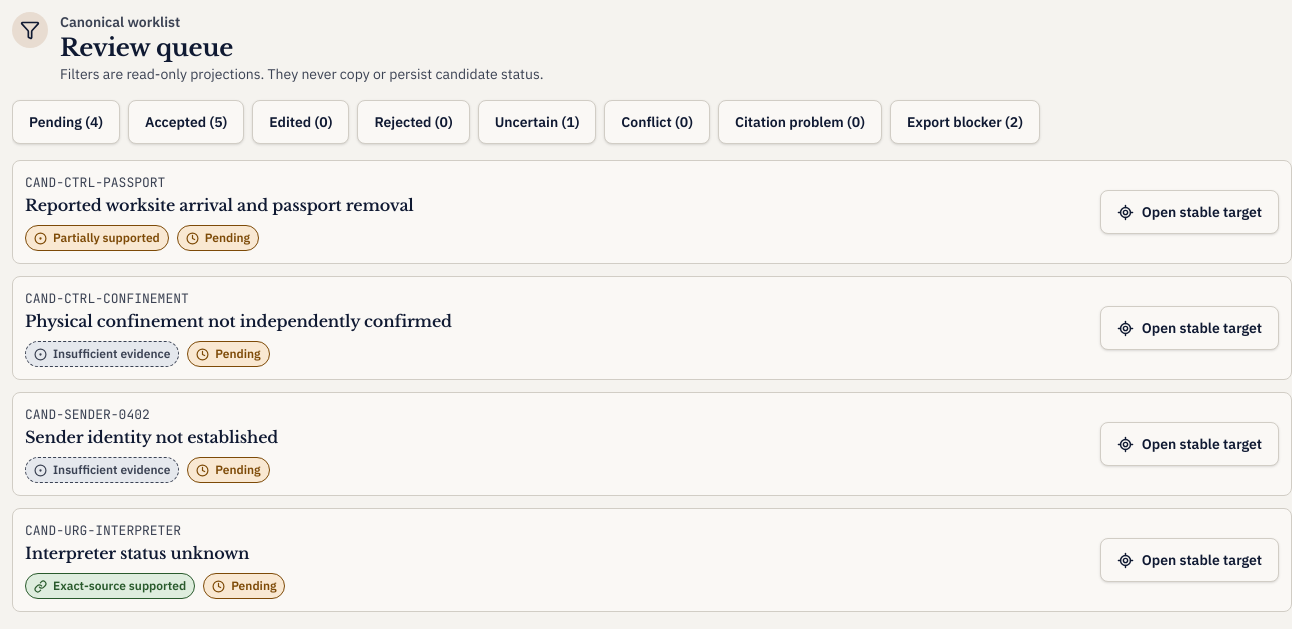
Scenario: TASK-021 review queue › does not describe browser-local extraction as a prepared fixture checkpoint
What coordinates should you click on to do the following:
click the button "Export blocker (2)"
I would click on:
 (965, 122)
Its box is [890,100,1040,144].
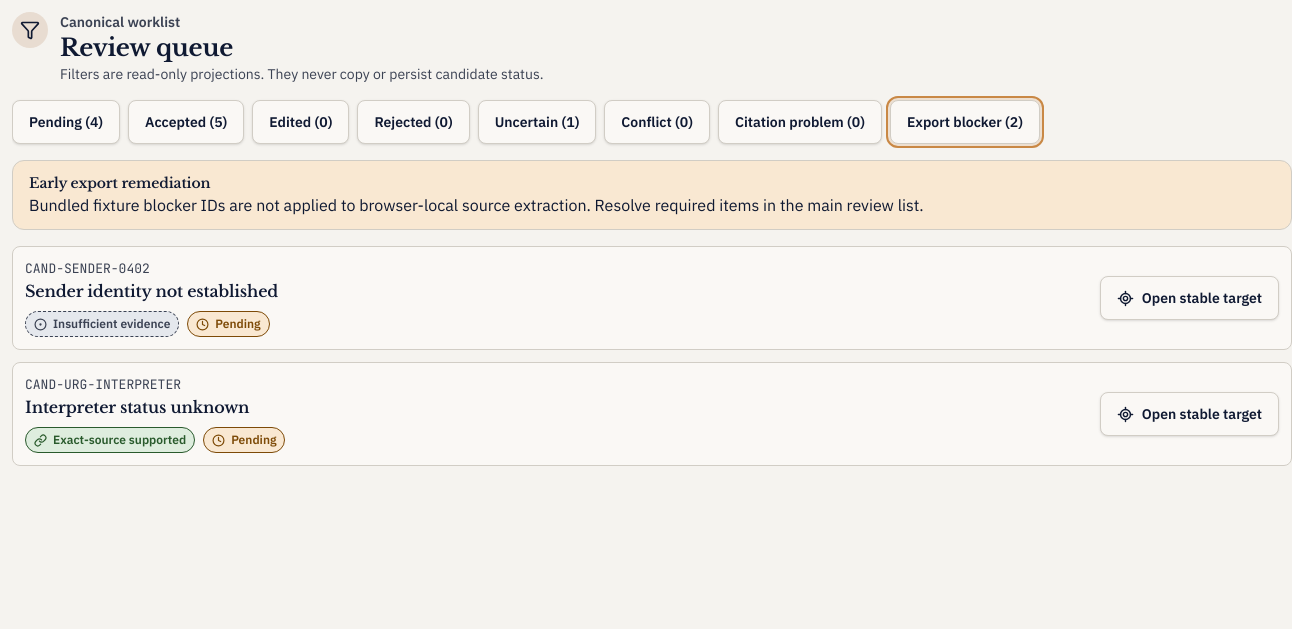
Now the element "Early export remediation" shows "Bundled fixture blocker IDs are not applied to browser-local source extraction", box [29,195,924,215]
